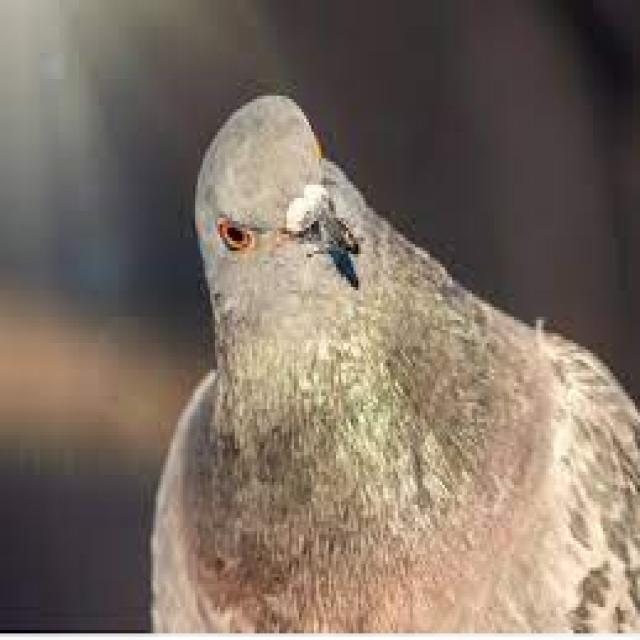bird: (113, 72, 640, 640)
